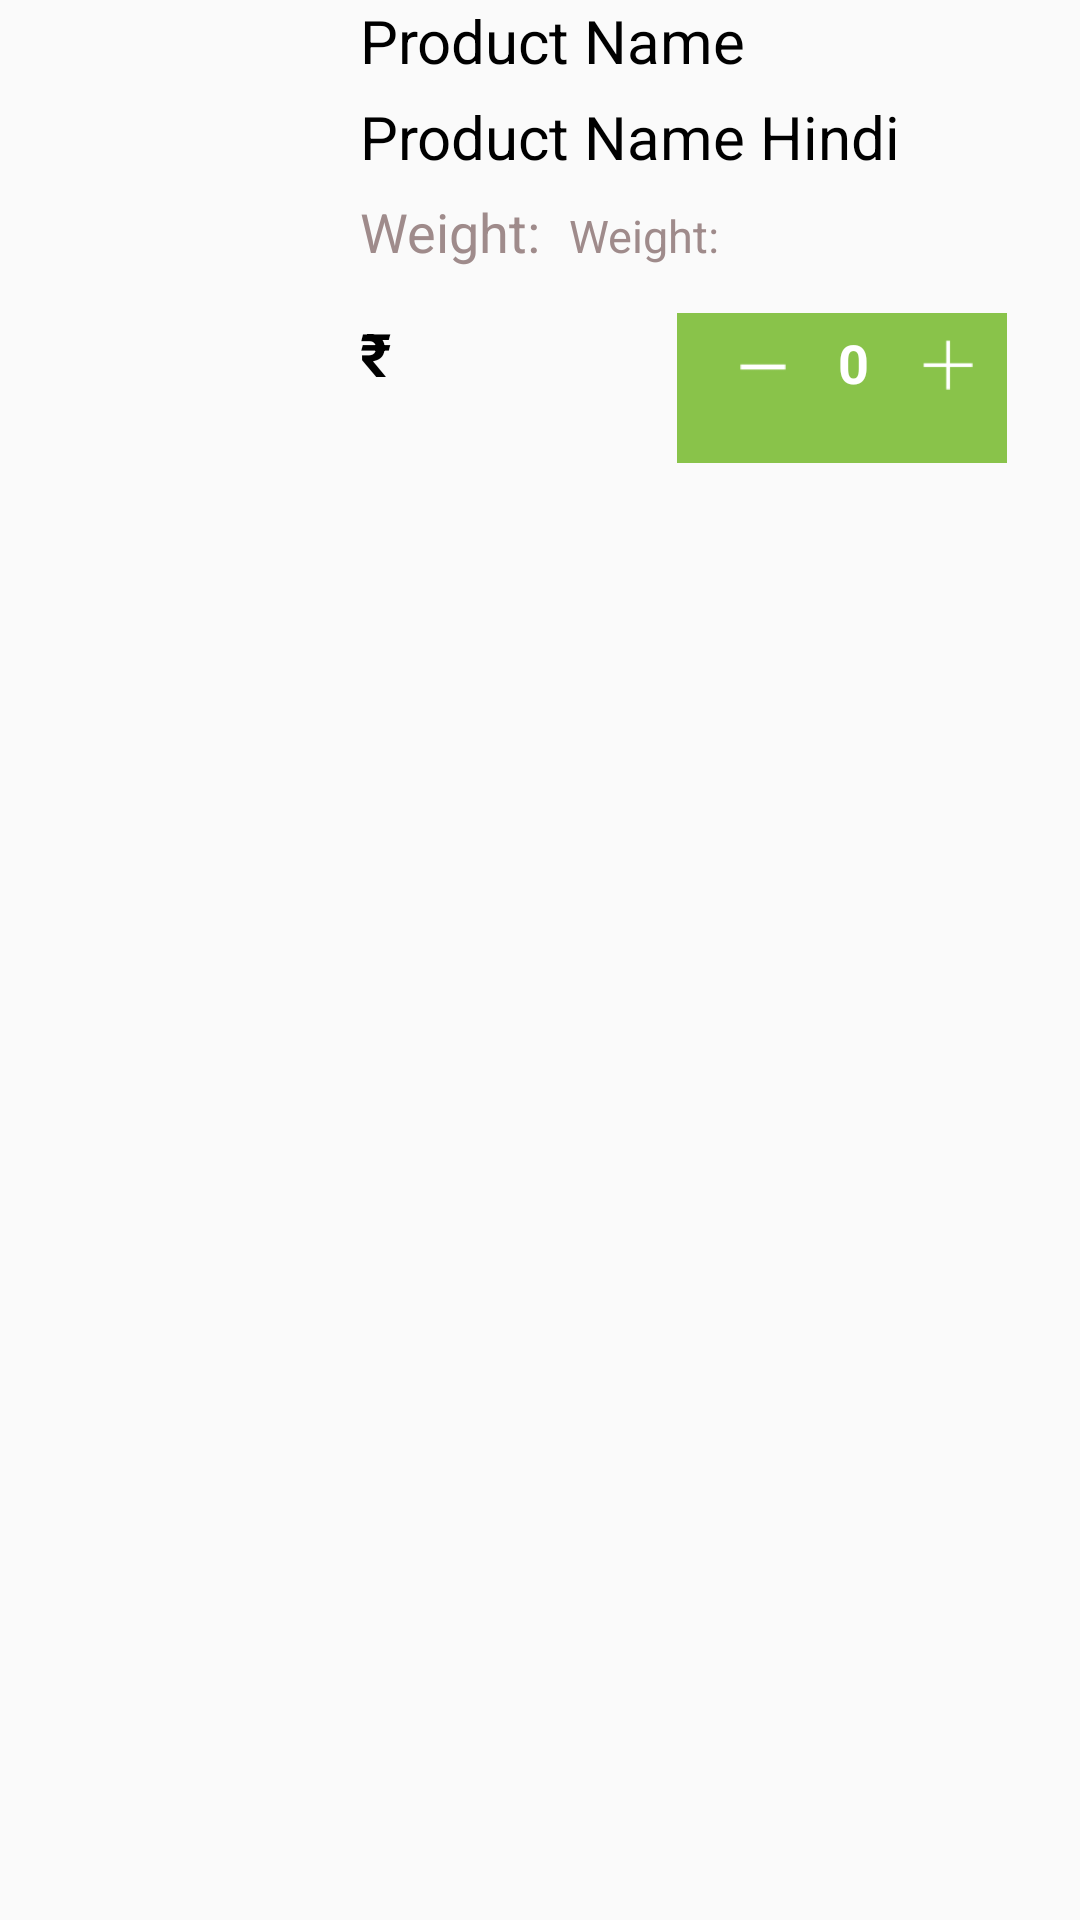

Icon click points for this 1080x1920 phone screenshot, format point (x, y):
plus: point (948, 365)
